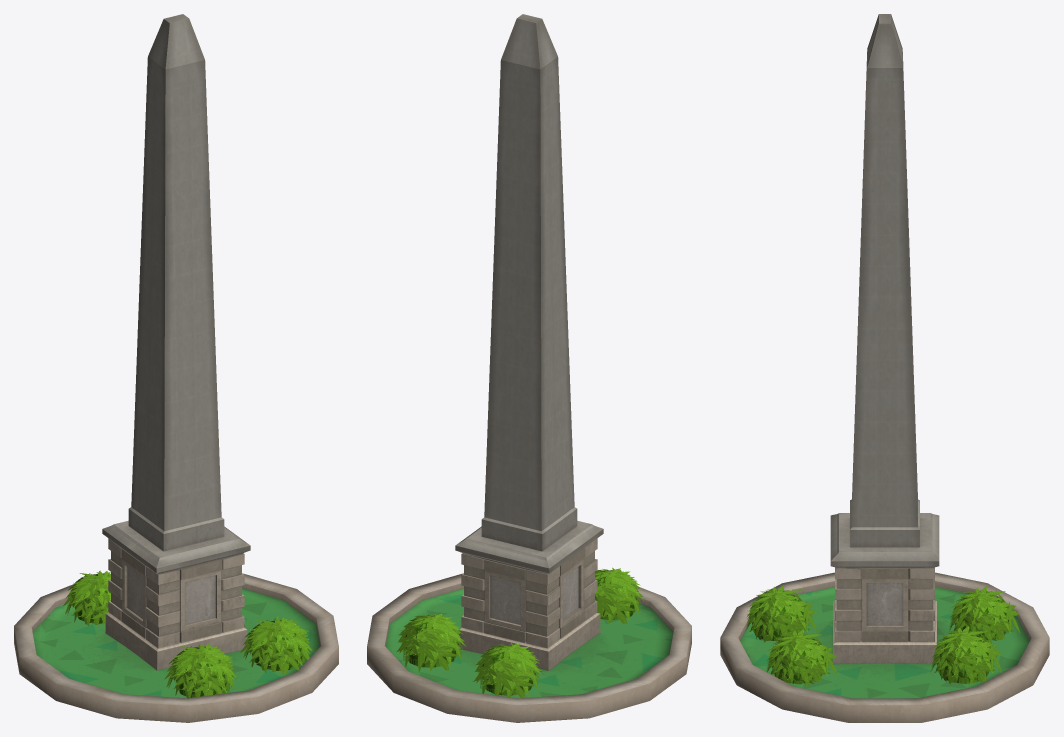
The model's file is Bat_Prado_7.fbx.
The picture shows the model from 3 angles, left to right: view 1: azimuth 30°, elevation 25°; view 2: azimuth 150°, elevation 25°; view 3: azimuth 270°, elevation 25°; orthographic projection.
Visible parts, largest first — view 1: Bat_Prado_7; view 2: Bat_Prado_7; view 3: Bat_Prado_7.
Boxes of the visible parts, x1,y1,x2,y2 form: Bat_Prado_7: (14, 14, 338, 722); Bat_Prado_7: (367, 14, 691, 722); Bat_Prado_7: (720, 14, 1049, 722).
Size of the model in its own units: 1028 by 2282 by 1054.
